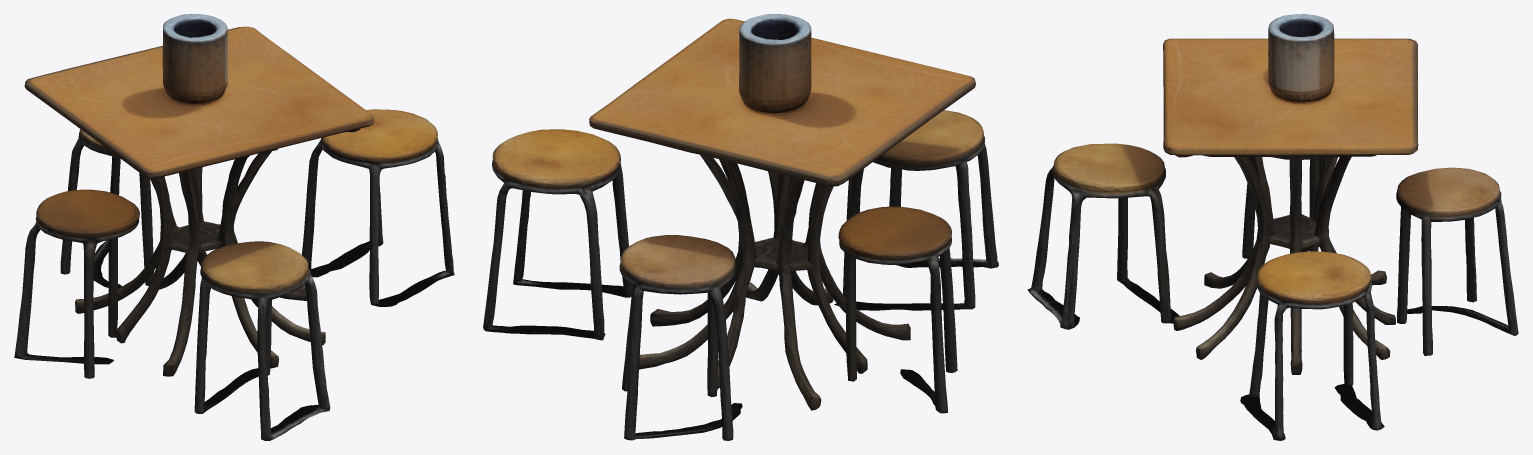
3 views of the same model, side by side, from view 1: azimuth 30°, elevation 25°; view 2: azimuth 150°, elevation 25°; view 3: azimuth 270°, elevation 25° (orthographic). The views are drawn at different scales.
Visible parts, largest first — view 1: world.001; view 2: world.001; view 3: world.001.
Boxes of the visible parts, x1,y1,x2,y2 form: world.001: [14, 14, 454, 440]; world.001: [483, 14, 998, 440]; world.001: [1027, 14, 1518, 440].
Size of the model in its own units: 86 by 58.97 by 88.82.
Materials: 1 (1 with a texture image).
